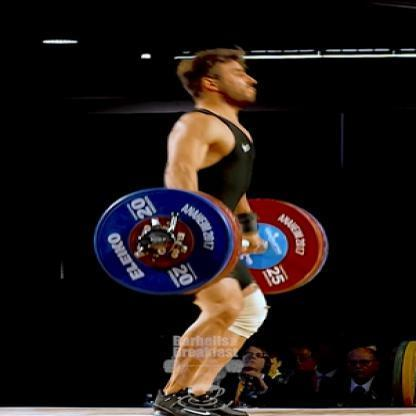barbell: (93, 188, 329, 296)
